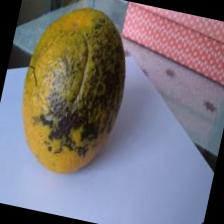Orange Rotten: (3, 0, 146, 186)
